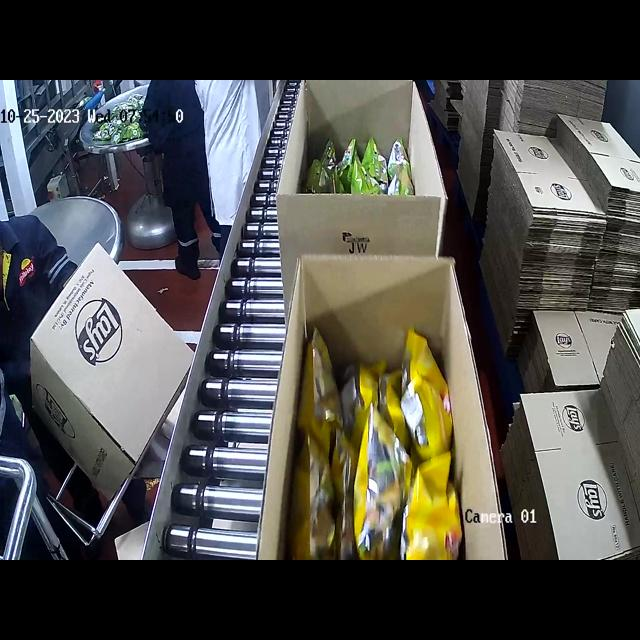salted: (293, 318, 459, 560)
yogurt: (313, 125, 414, 191)
